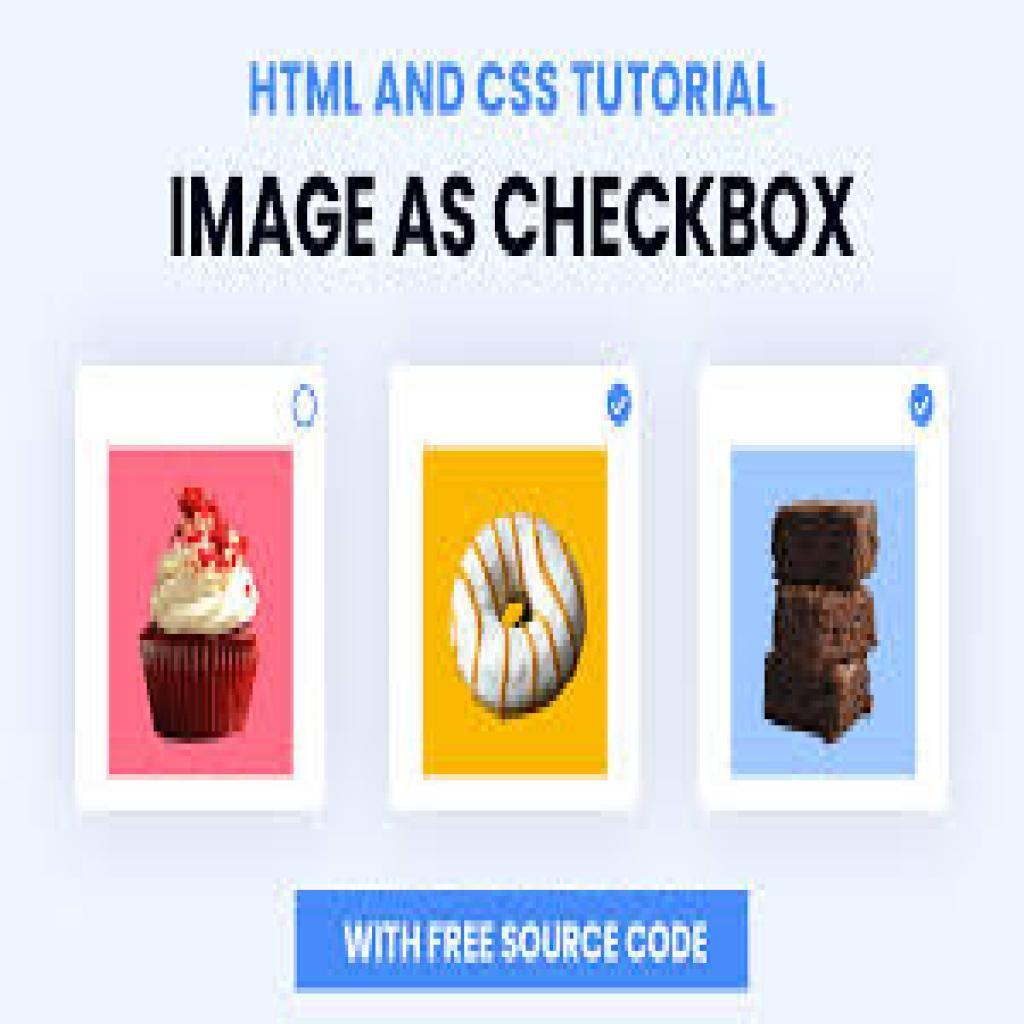button: (295, 890, 747, 993)
radio: (293, 383, 321, 430), (910, 382, 938, 428), (606, 383, 634, 428)
